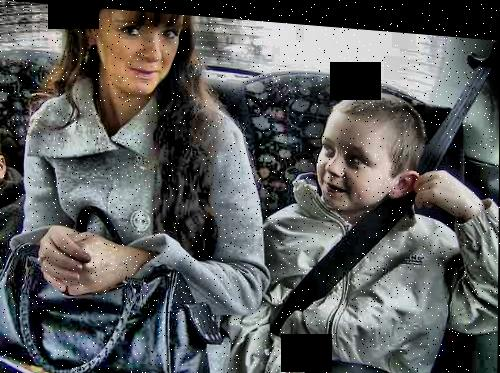seatbelt: (265, 27, 494, 373)
